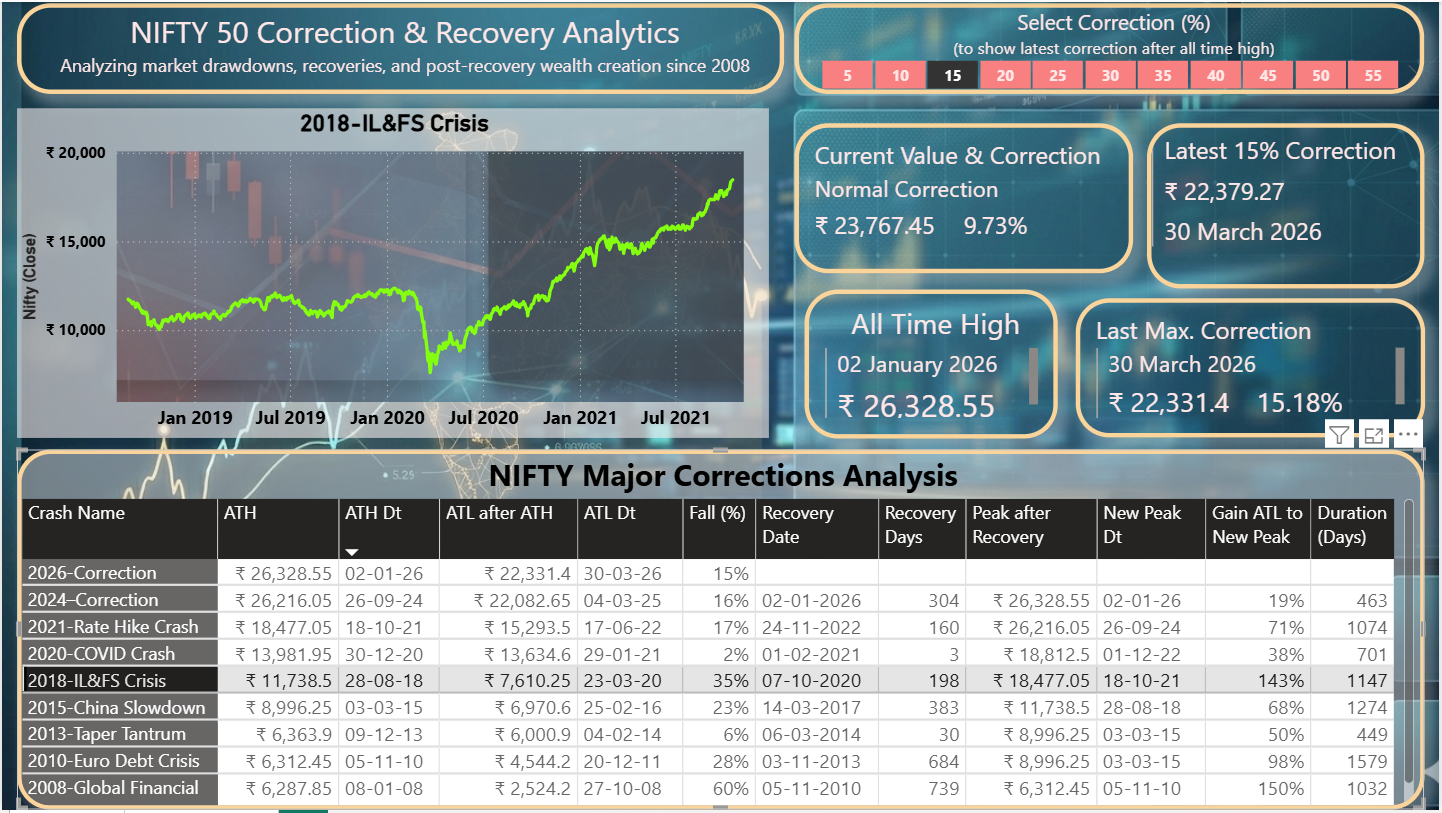

This screenshot's page, from the dashboard's own definition file:
{"tool":"powerbi","page":{"name":"NIFTY_50 ","canvas":[1280,720],"ordinal":0},"visuals":[{"type":"multiRowCard","title":"All Time High","fields":{"Values":["Nifty.All Time High","Nifty.All Time High Dt"]},"box":[715.2,255.5,225.8,132.5],"z":0},{"type":"multiRowCard","title":"Last Max. Correction","fields":{"Values":["Nifty.Correction","Nifty.Correction Dt","Nifty.correction (%)"]},"box":[955.8,263.6,310.9,124.4],"z":1000},{"type":"multiRowCard","title":"Current Value & Correction","fields":{"Values":["Nifty.Current Value","Nifty.Current Correction","Nifty.Play Book"]},"box":[705.7,108.2,301.5,133.8],"z":2000},{"type":"slicer","title":"Select Correction (%)","fields":{"Values":["Fall From ATH.Fall Percentage"]},"box":[705.8,1.2,561,80.8],"z":3000},{"type":"multiRowCard","fields":{"Values":["Fall From ATH.Header","Nifty.Fall Value","Nifty.Date of Fall"]},"box":[1019.4,108.2,247.4,147.4],"z":4000},{"type":"pivotTable","title":"NIFTY Major Corrections Analysis","fields":{"Rows":["Crash History.Crash Name"],"Values":["Nifty.ATH","Nifty.ATH Dt","Nifty.ATL after ATH","Nifty.ATL Dt","Nifty.Max fall","Nifty.Recovery Date","Nifty.Recovery Days","Nifty.Peak after Recovery","Nifty.New Peak Dt","Nifty.Gain ATL to New Peak","Nifty.Duration"]},"box":[13.5,398.8,1253.2,320.4],"z":5000},{"type":"card","title":"NIFTY 50 Correction & Recovery Analytics","fields":{"Values":["Crash History.Title"]},"box":[13.4,1.3,683.2,80.7],"z":6000},{"type":"lineChart","title":"Nifty (Close) by Date","fields":{"Y":["Sum(Nifty.Close)"],"Category":["Nifty.Date"]},"box":[13.5,94.6,669.2,293.4],"z":7000}]}

Visuals, with their boxes in screenshot pixels (x1, y1, x2, y2), scaled from the page's 1280x720 canvas onto the 1442x813 screenshot:
"All Time High" multiRowCard: {"x1": 806, "y1": 289, "x2": 1060, "y2": 438}
"Last Max. Correction" multiRowCard: {"x1": 1077, "y1": 298, "x2": 1427, "y2": 438}
"Current Value & Correction" multiRowCard: {"x1": 795, "y1": 122, "x2": 1135, "y2": 273}
"Select Correction (%)" slicer: {"x1": 795, "y1": 1, "x2": 1427, "y2": 93}
multiRowCard - Fall From ATH.Header x Nifty.Fall Value: {"x1": 1148, "y1": 122, "x2": 1427, "y2": 289}
"NIFTY Major Corrections Analysis" pivotTable: {"x1": 15, "y1": 450, "x2": 1427, "y2": 812}
"NIFTY 50 Correction & Recovery Analytics" card: {"x1": 15, "y1": 1, "x2": 785, "y2": 93}
"Nifty (Close) by Date" lineChart: {"x1": 15, "y1": 107, "x2": 769, "y2": 438}
